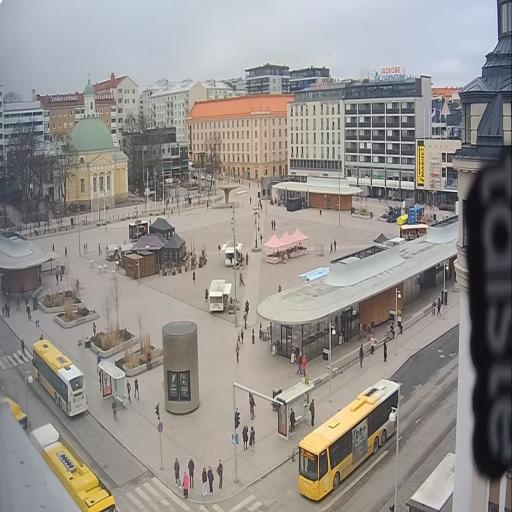bus: (289, 376, 402, 506), (29, 419, 117, 510), (29, 334, 90, 422), (4, 390, 31, 432)
car: (206, 175, 216, 185), (191, 172, 199, 181), (200, 172, 204, 181)
delivery: (189, 162, 195, 170)
